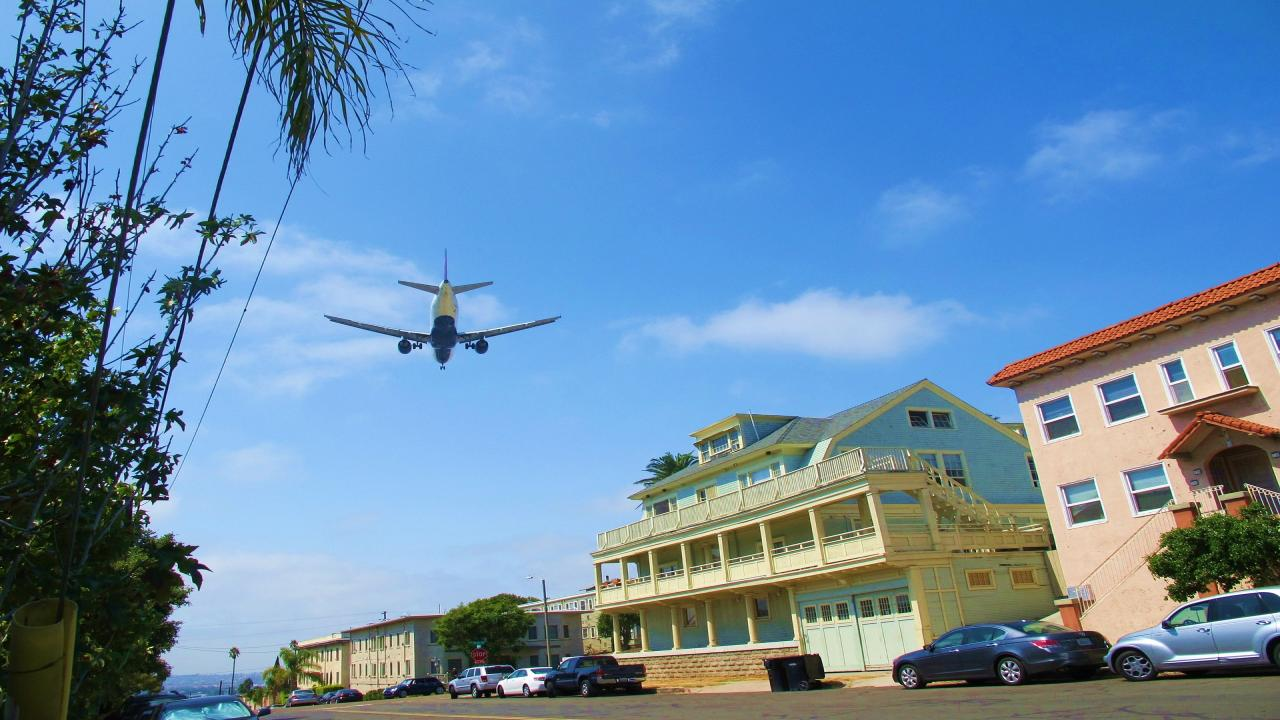Airplane: (312, 241, 575, 378)
